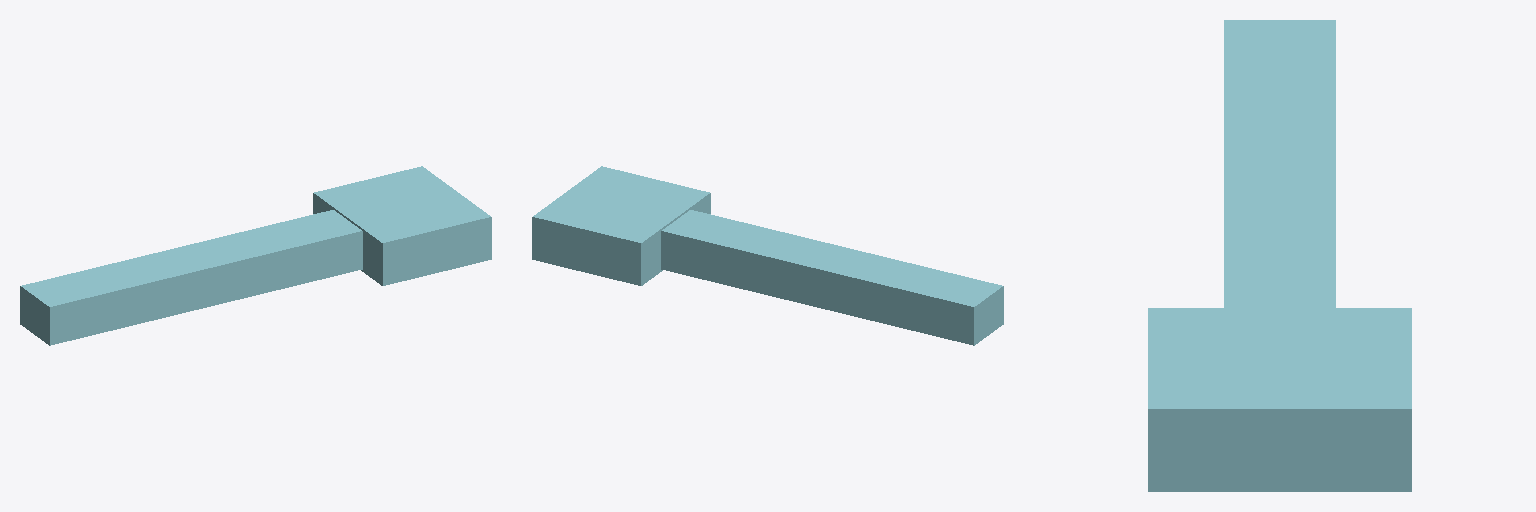
URDF robot description (cuboid_brush_v10008):
<?xml version="1.0"?>
<robot name="cuboid_brush_v10008">

  <link name="cuboid_brush_v10008">
    <!-- Handle -->
    <visual>
      <origin xyz="0 0 0" rpy="0 0 0"/>
      <geometry>
        <box size="0.17686954367032137 0.028502685372319272 0.020847288046044098"/>
      </geometry>
      <material name="material">
        <color rgba="0.639 0.847 0.882 1.0"/>
      </material>
    </visual>
    <collision>
      <origin xyz="0 0 0" rpy="0 0 0"/>
      <geometry>
        <box size="0.17686954367032137 0.028502685372319272 0.020847288046044098"/>
      </geometry>
    </collision>

    <!-- Head -->
    <visual>
      <origin xyz="0.11922066815301588 0 0" rpy="0 0 0"/>
      <geometry>
        <box size="0.06157179263571038 0.06772788320801382 0.02320624049964516"/>
      </geometry>
      <material name="material">
        <color rgba="0.639 0.847 0.882 1.0"/>
      </material>
    </visual>
    <collision>
      <origin xyz="0.11922066815301588 0 0" rpy="0 0 0"/>
      <geometry>
        <box size="0.06157179263571038 0.06772788320801382 0.02320624049964516"/>
      </geometry>
    </collision>

    <inertial>
      <density value="400.0"/>
    </inertial>
  </link>

</robot>

--- What the picture shows (computed from the rendered views, not written in the file) ---
The picture shows the robot from 3 angles, left to right: view 1: azimuth 30°, elevation 25°; view 2: azimuth 150°, elevation 25°; view 3: azimuth 270°, elevation 25°; orthographic projection.
Robot: cuboid_brush_v10008 — 1 links, 0 joints (none); root link cuboid_brush_v10008; default pose: every joint at zero.
Visible links, largest first — view 1: cuboid_brush_v10008; view 2: cuboid_brush_v10008; view 3: cuboid_brush_v10008.
Link boxes in pixels (x1=…): cuboid_brush_v10008: x1=20, y1=166, x2=491, y2=345; cuboid_brush_v10008: x1=532, y1=166, x2=1003, y2=345; cuboid_brush_v10008: x1=1148, y1=20, x2=1411, y2=491.
Size in the robot's own frame: 0.2384 by 0.0677 by 0.0232 metres.
Geometry: primitives only (box / cylinder / sphere), no mesh files.
